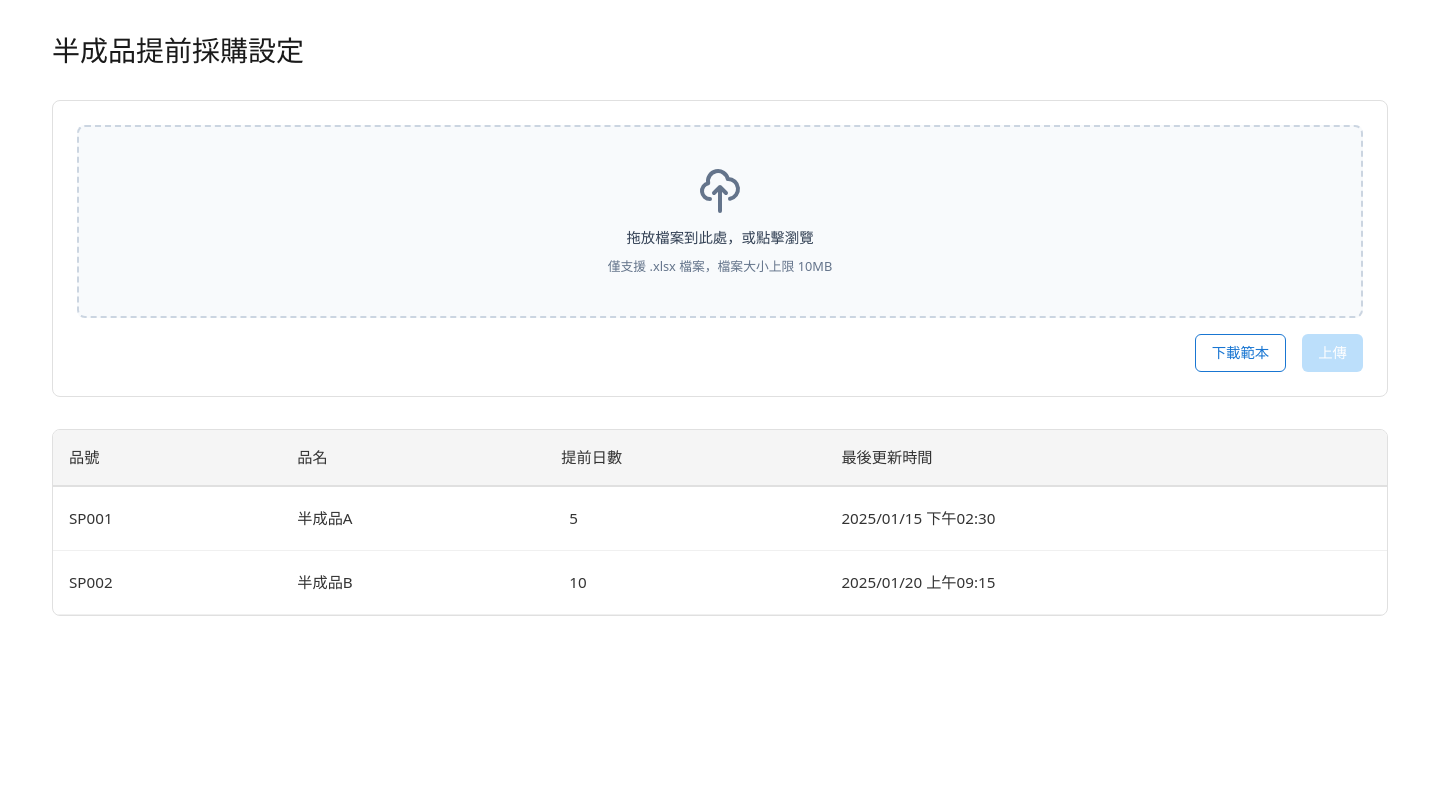
Test: SemiProductPage › cancels edit on Escape key
This screenshot has width=1440, height=810.
Expected: the text "SP001" is shown, [53, 486, 281, 550]
Click the button "5".
click(574, 518)  # box [569, 508, 578, 528]
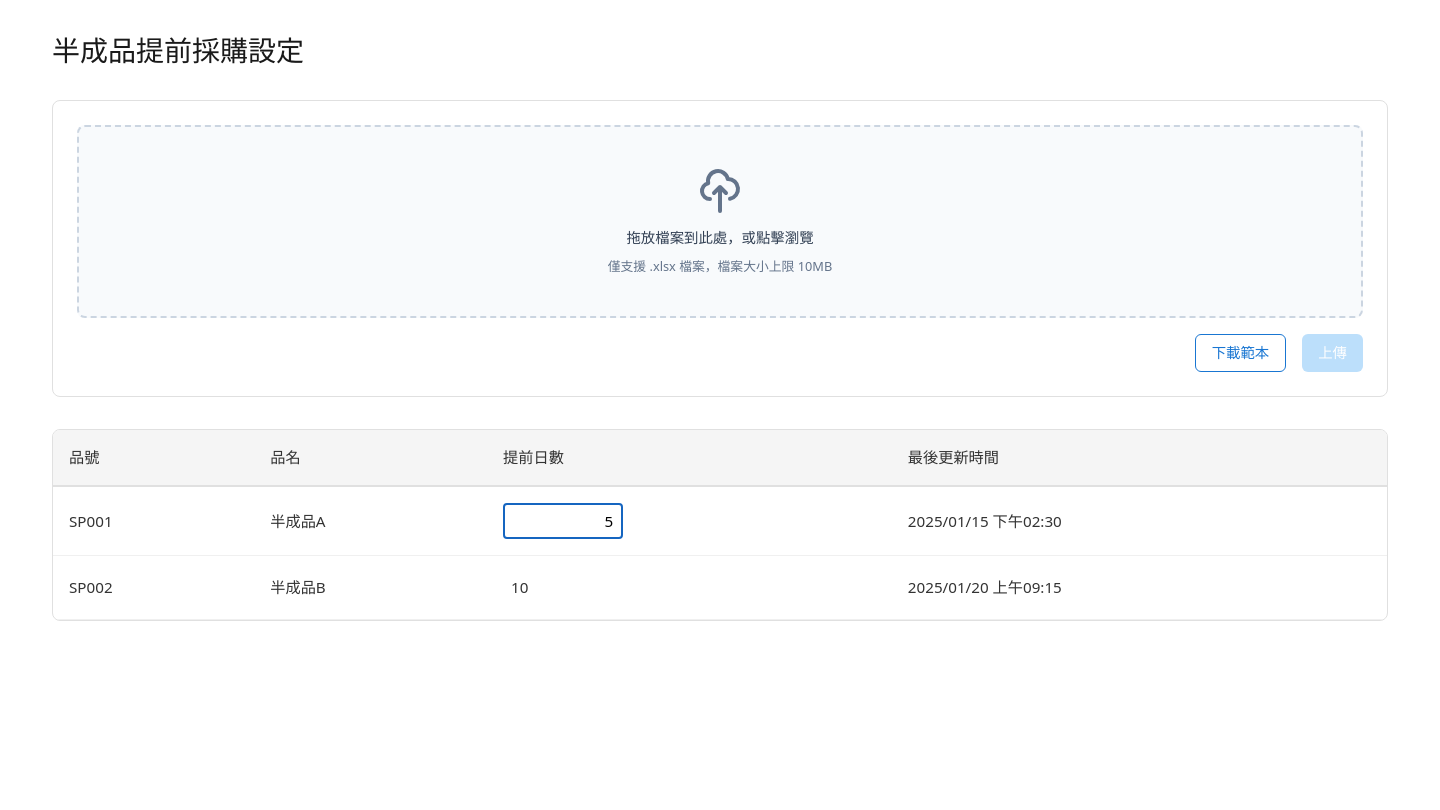
Expected: the field named "編輯提前日數" is shown, [503, 503, 623, 539]
Press Escape
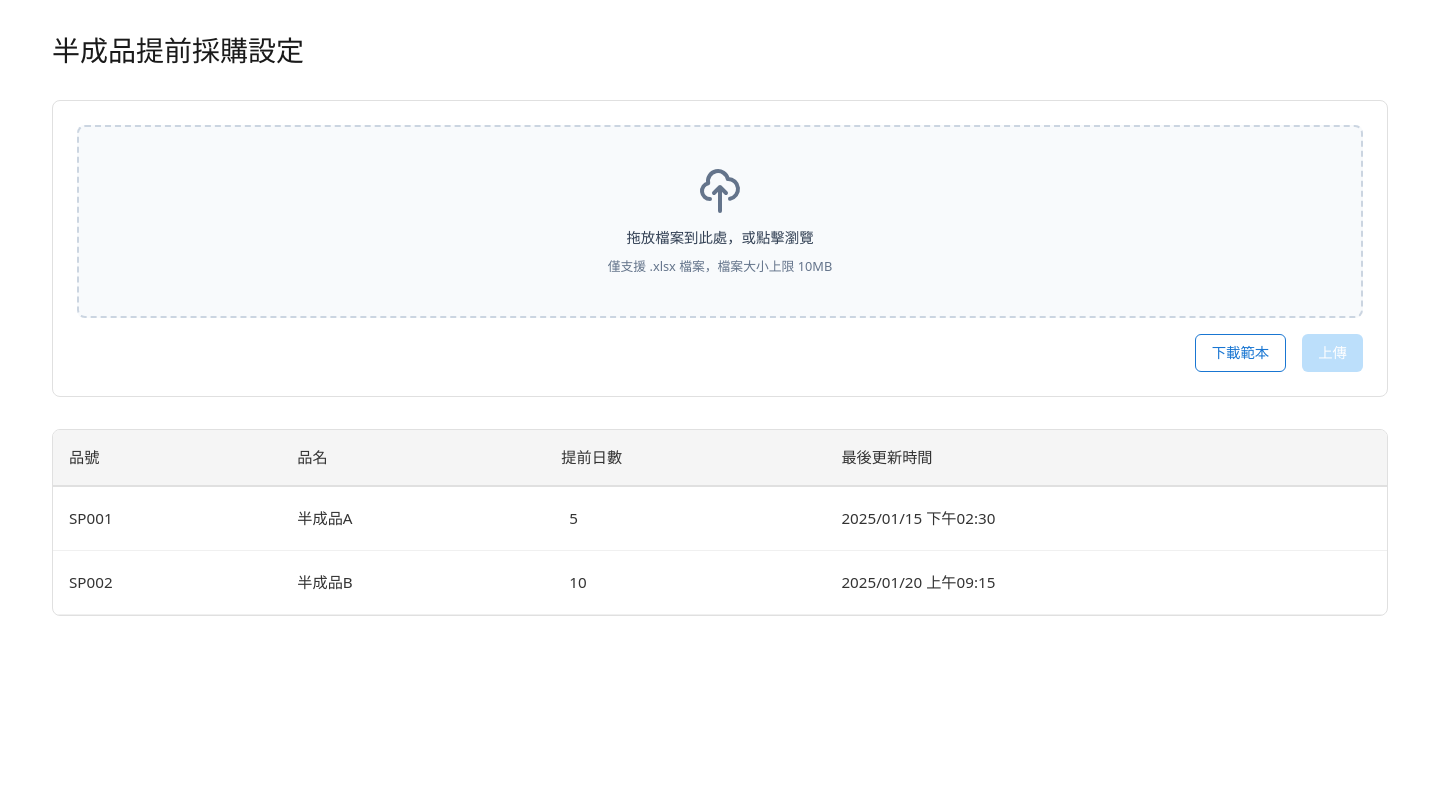
Expected: the field labelled "編輯提前日數" is gone
